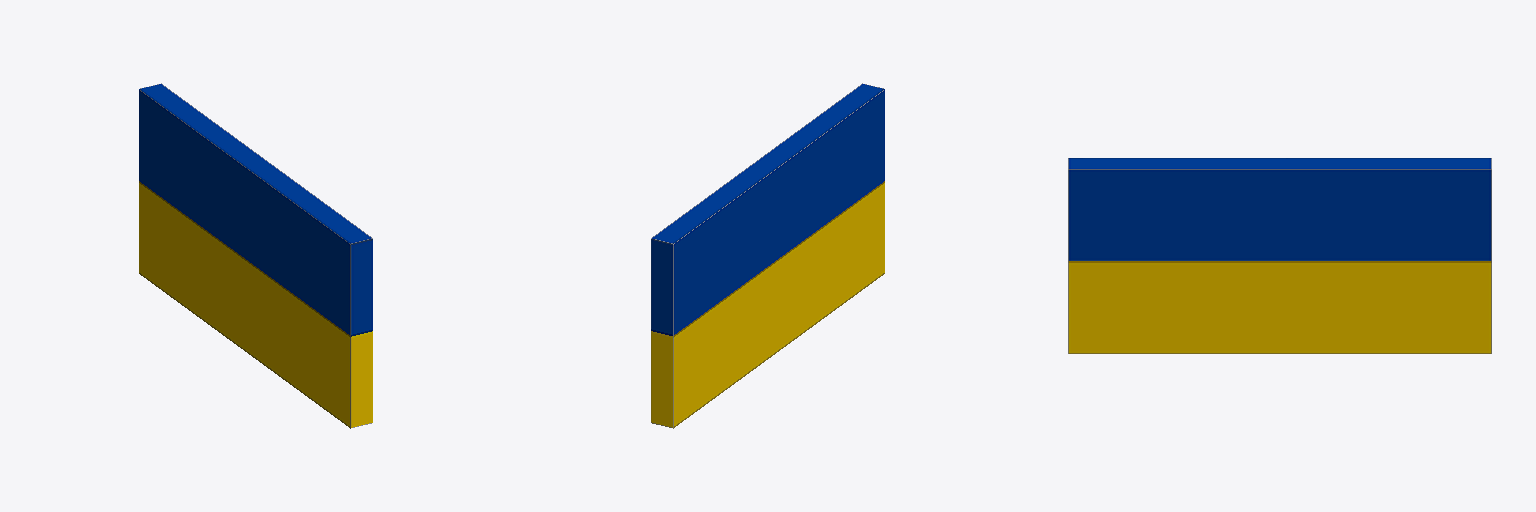
The picture shows the model from 3 angles: view 1: azimuth 30°, elevation 25°; view 2: azimuth 150°, elevation 25°; view 3: azimuth 270°, elevation 25°; orthographic projection.
Parts seen in each view (by area): view 1: Cube; view 2: Cube; view 3: Cube.
Boxes of the visible parts, x1=… form: Cube: x1=139, y1=83, x2=372, y2=428; Cube: x1=651, y1=83, x2=884, y2=428; Cube: x1=1068, y1=158, x2=1491, y2=353.
Bounding box in the file's own units: 0.258 × 2 × 4.16.
Materials: 1 (1 with a texture image).